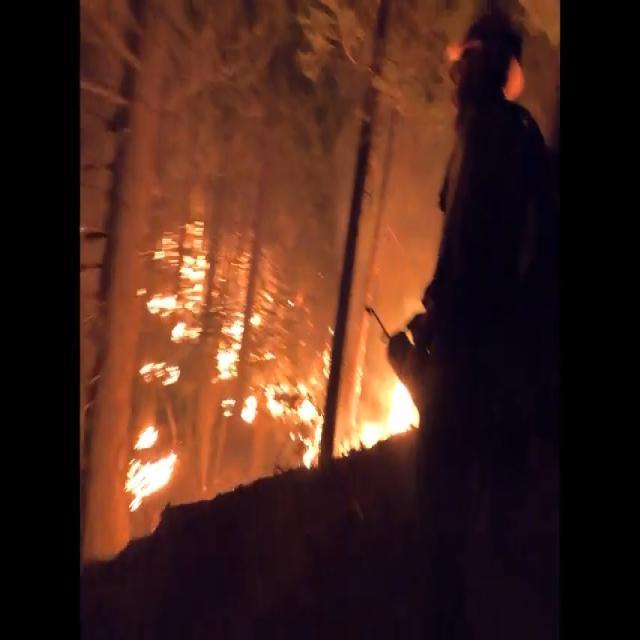Fire: (124, 200, 420, 507)
